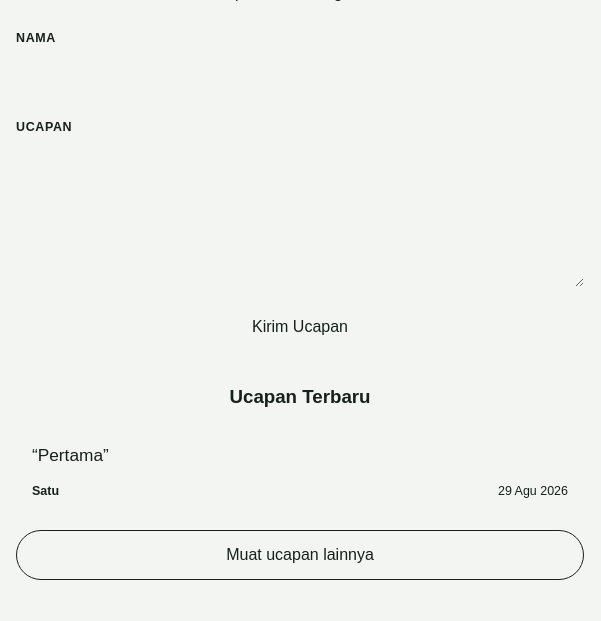
Test: Daztore Wishes form and approved list › supports cursor load-more without replacing existing wishes
(page scrolled)
Expected: the text "“Pertama”" is shown, [32, 444, 109, 464]
Click the button "Muat ucapan lainnya": (300, 555) [16, 530, 584, 580]
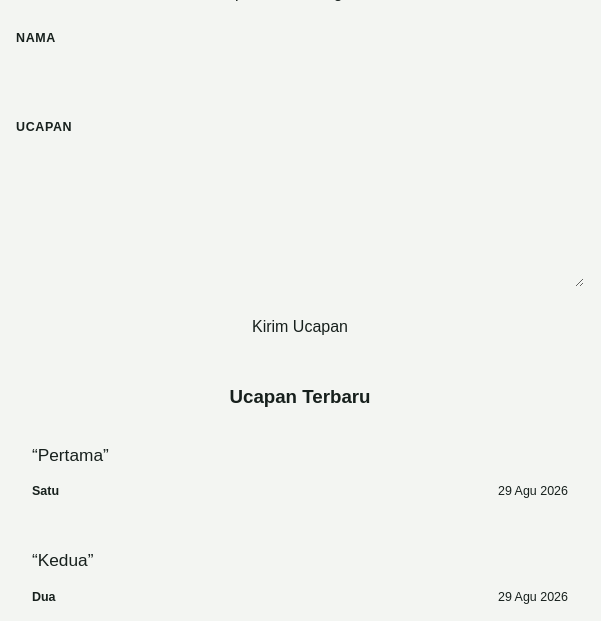
Expected: the text "“Pertama”" is shown, [32, 444, 109, 464]
Expected: the text "“Kedua”" is shown, [32, 550, 93, 570]
